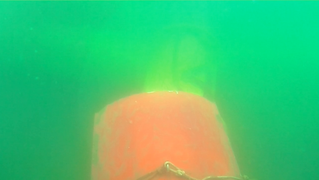4: (185, 59, 214, 101)
leak: (90, 90, 242, 180)
pipe: (1, 22, 158, 84), (141, 16, 215, 98)
